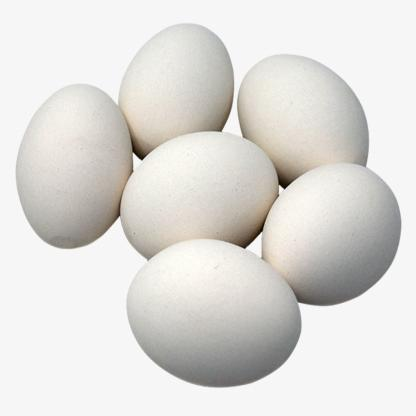egg: (124, 236, 304, 390), (116, 130, 280, 262), (260, 162, 402, 308), (16, 80, 132, 251), (235, 52, 370, 190), (116, 21, 235, 162)
